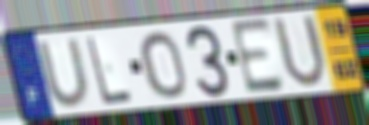3: (183, 22, 230, 100)
E: (227, 14, 287, 97)
L: (84, 34, 135, 108)
O: (136, 29, 190, 101)
U: (270, 13, 329, 92), (34, 35, 94, 110)
